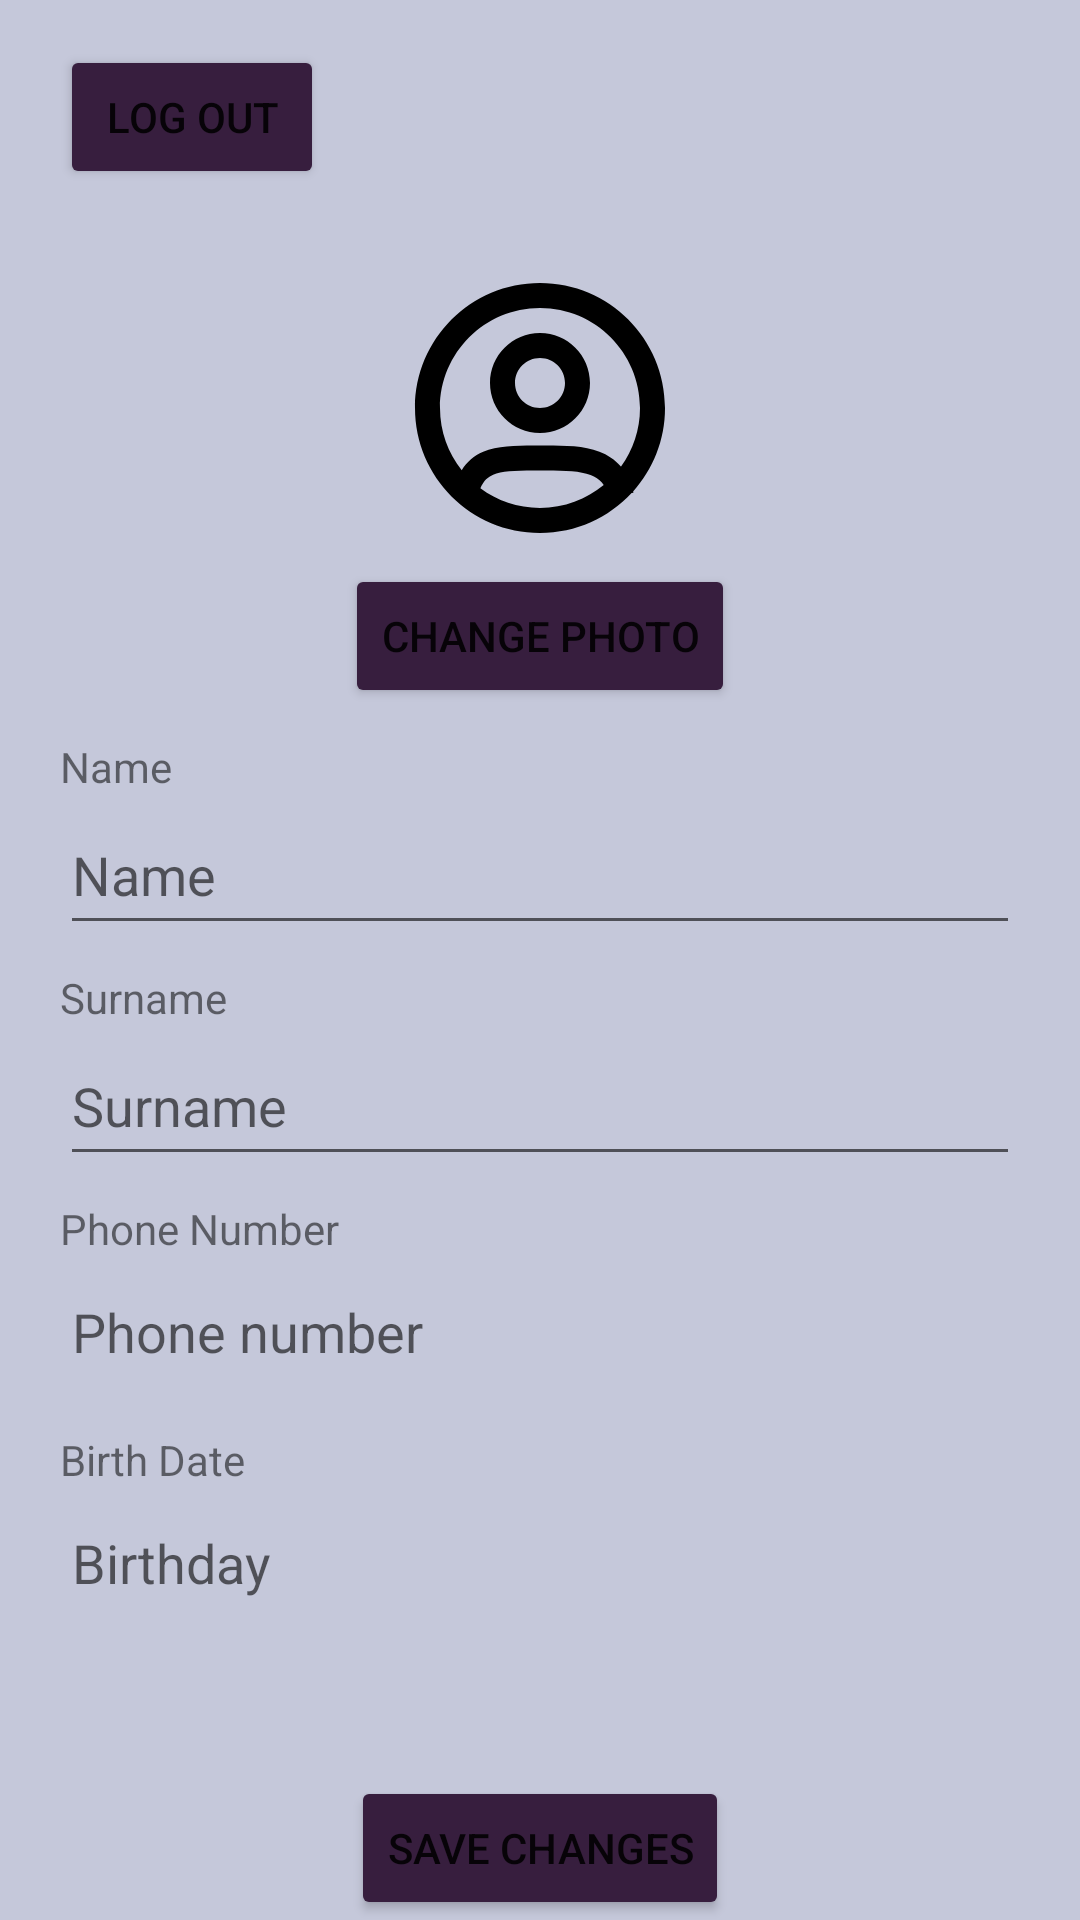

Icon bounding boxes for this 1080 x 1920 phone screenshot, format [x1, y1, x2, y2]:
user profile: [415, 283, 665, 533]
